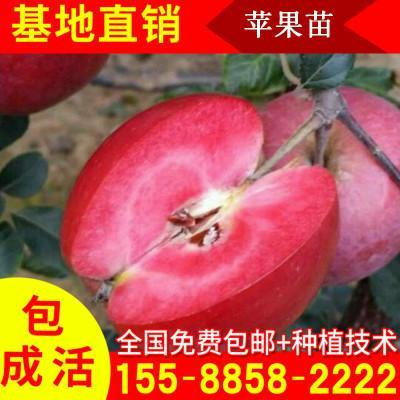apple: (59, 93, 338, 346), (260, 86, 400, 288)
